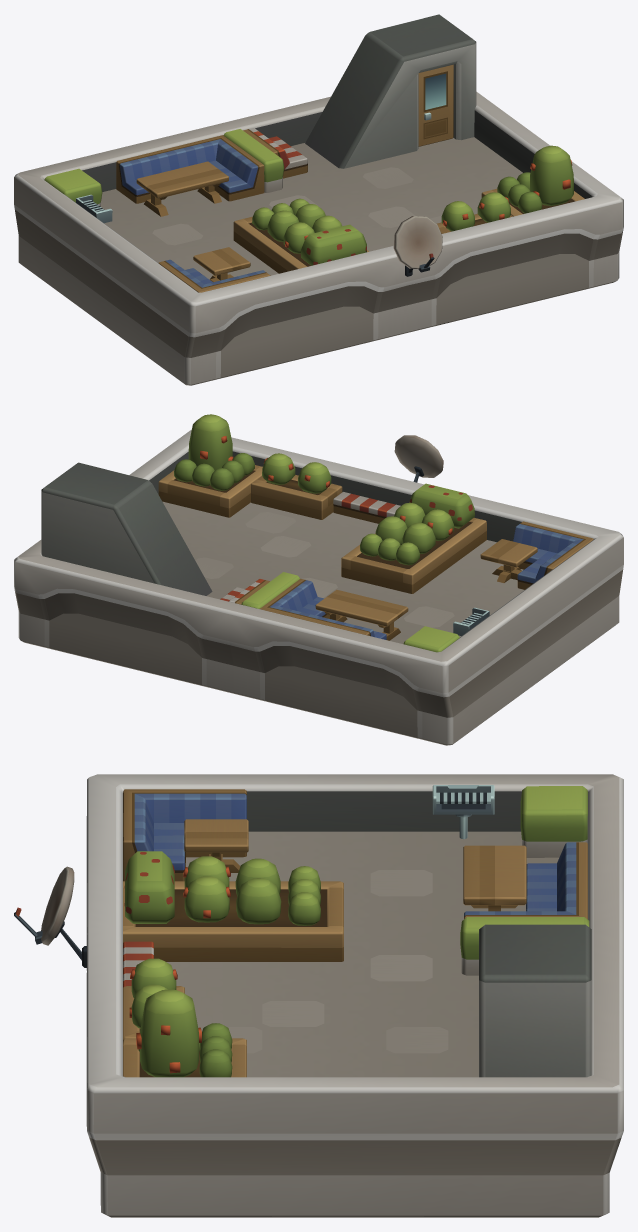
Rendered from appartment_type1_roof_type1_x6_deco.fbx.
3 renders of one model, top to bottom at view 1: azimuth 30°, elevation 25°; view 2: azimuth 150°, elevation 25°; view 3: azimuth 270°, elevation 25°, orthographic. The views are drawn at different scales.
Parts seen in each view (by area): view 1: appartment_type1_roof_type1_x6_deco, door_wood_rooftop_doorway; view 2: appartment_type1_roof_type1_x6_deco; view 3: appartment_type1_roof_type1_x6_deco.
Part boxes in pixels (x1=…): appartment_type1_roof_type1_x6_deco: x1=14, y1=14, x2=623, y2=385; door_wood_rooftop_doorway: x1=418, y1=64, x2=453, y2=146; appartment_type1_roof_type1_x6_deco: x1=14, y1=414, x2=623, y2=745; appartment_type1_roof_type1_x6_deco: x1=14, y1=774, x2=623, y2=1217.
Bounding box in the file's own units: 1210 × 410 × 985.
